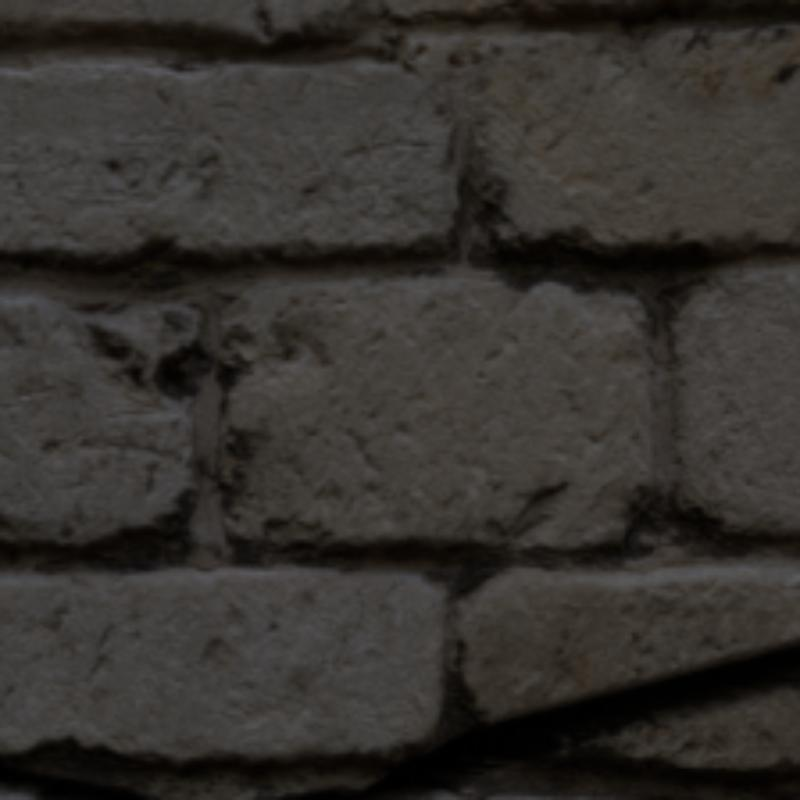pothole: (254, 639, 796, 796), (0, 754, 150, 796)
